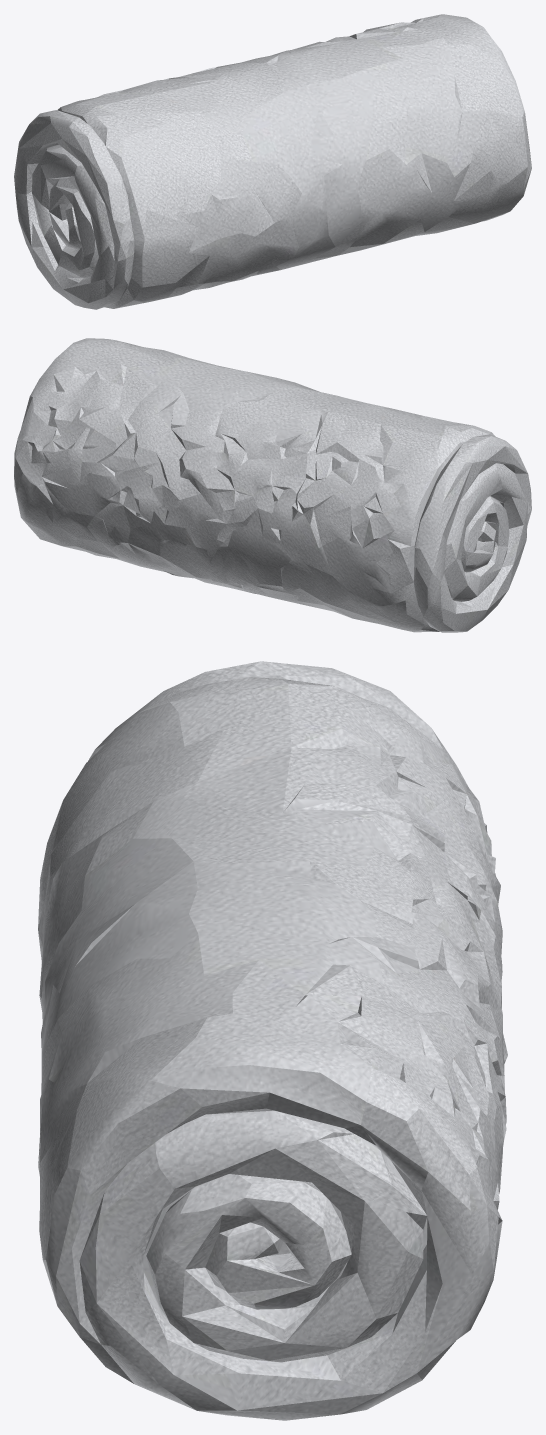
The model's file is pillow-towel-mobile.glb.
3 views of the same model, one above another, from view 1: azimuth 30°, elevation 25°; view 2: azimuth 150°, elevation 25°; view 3: azimuth 270°, elevation 25° (orthographic). The views are drawn at different scales.
Visible parts, largest first — view 1: output_unwrapped; view 2: output_unwrapped; view 3: output_unwrapped.
Boxes of the visible parts, x1,y1,x2,y2 form: output_unwrapped: [14, 14, 531, 309]; output_unwrapped: [14, 338, 531, 632]; output_unwrapped: [38, 661, 507, 1420].
Size of the model in its own units: 1.9 by 0.7963 by 0.9097.
1 material, 1 textured.
